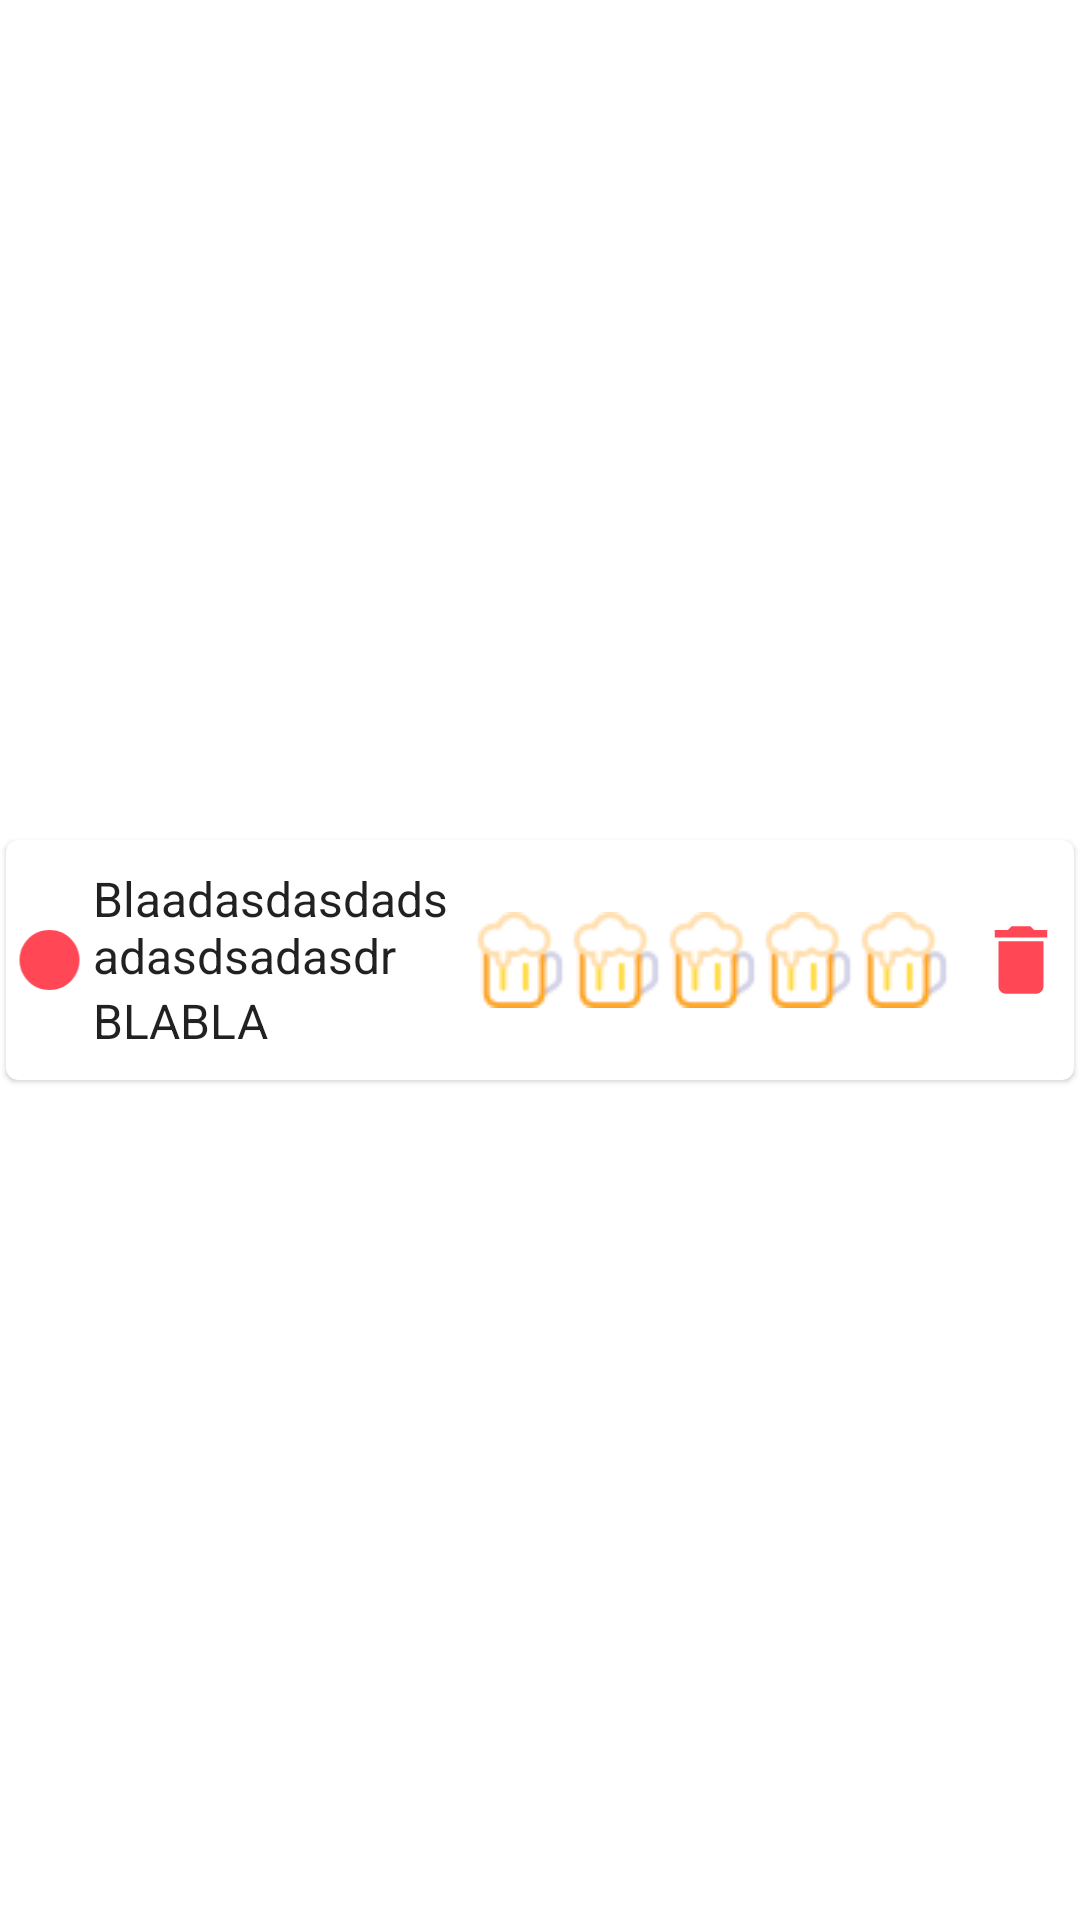

Icons on this 1080×1920 Android screen, each with the point to tap as (x=x, y=y):
Boton para borrar: (x=1021, y=960)
